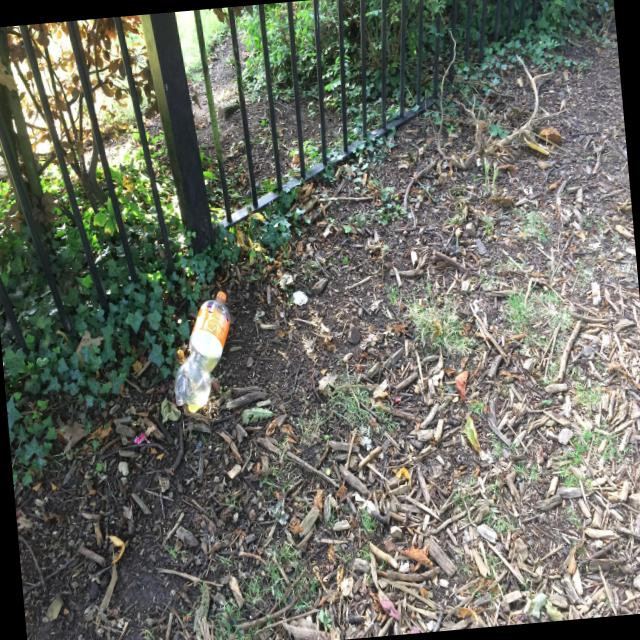less trash: (174, 290, 230, 412)
